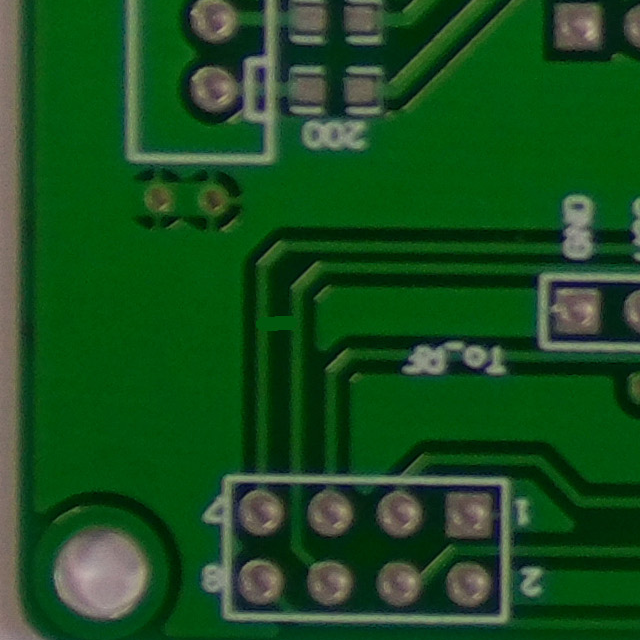short: (245, 291, 312, 350)
